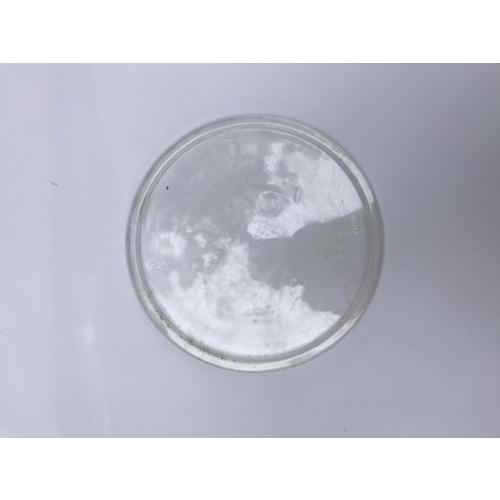plastic: (126, 112, 385, 374)
